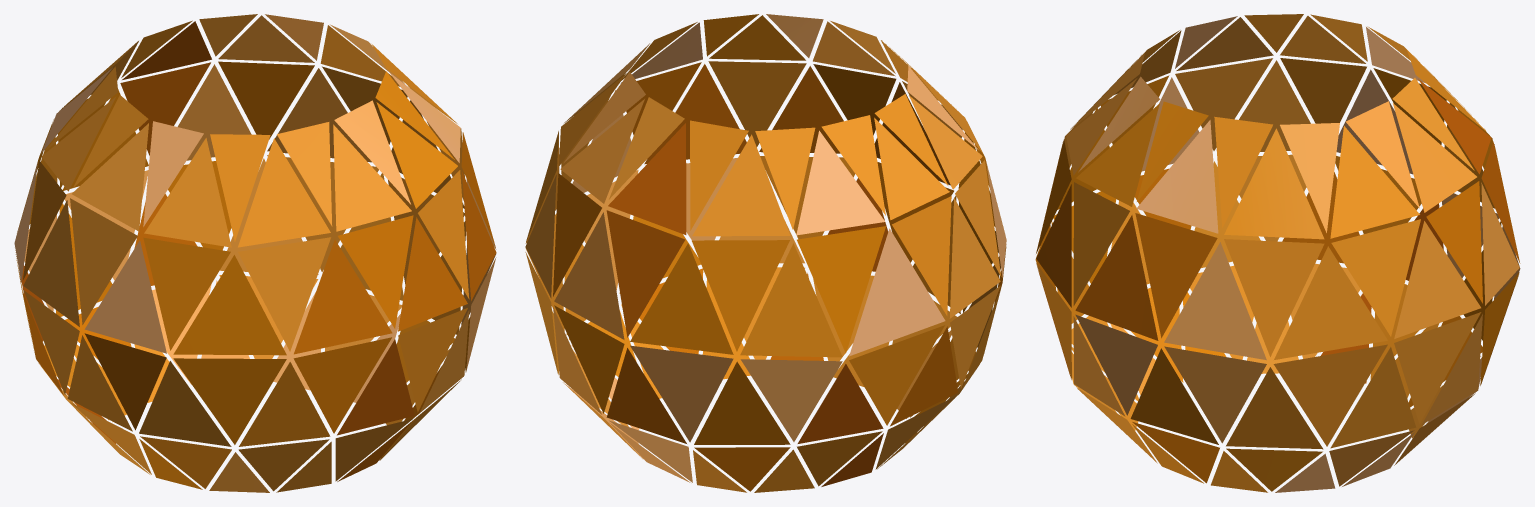
File: Zhongli_Shield.fbx
3 renders of one model, left to right at view 1: azimuth 30°, elevation 25°; view 2: azimuth 150°, elevation 25°; view 3: azimuth 270°, elevation 25°, orthographic.
Parts seen in each view (by area): view 1: Eff_Model_Noel_ShieldBallA; view 2: Eff_Model_Noel_ShieldBallA; view 3: Eff_Model_Noel_ShieldBallA.
Boxes of the visible parts, <box> form: Eff_Model_Noel_ShieldBallA: <box>14,14,496,492</box>; Eff_Model_Noel_ShieldBallA: <box>525,14,1006,492</box>; Eff_Model_Noel_ShieldBallA: <box>1035,14,1520,492</box>.
Bounding box in the file's own units: 78.18 × 66.42 × 78.66.
Materials: 1 (1 with a texture image).
